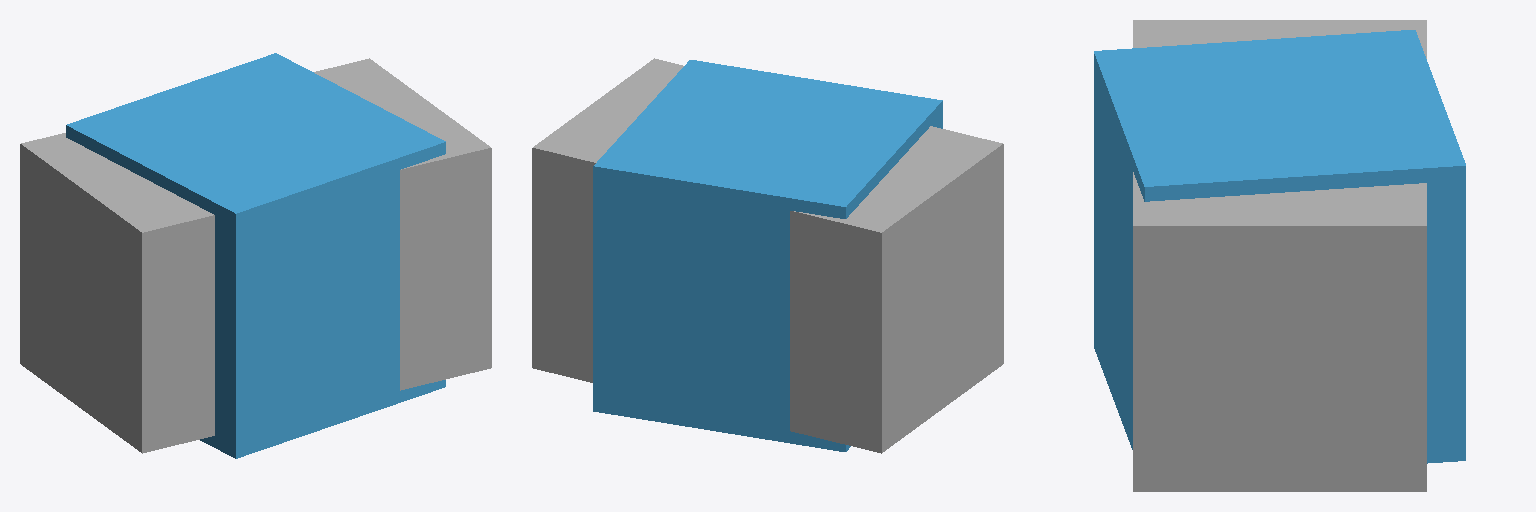
The robot description file, URDF, robot "andruinor2":
<?xml version="1.0"?>
<robot name="andruinor2">

  <link name="base_link">
    <visual>
      <geometry>
        <box size="0.1490 0.09 0.09"/>
      </geometry>
      <material name="silver">
        <color rgba="0.75 0.75 0.75 1"/>
      </material>
    </visual>
    <collision>
      <geometry>
        <box size="0.1490 0.09 0.09"/>
      </geometry>
    </collision>
   
  </link>

  

  <link name="hc_sr04_1_link">
    <visual>
      <geometry>
        <box size="0.1 0.1 0.1"/>
      </geometry>
      <material name="red"/>
    </visual>
    <collision>
      <geometry>
        <box size="0.1 0.1 0.1"/>
      </geometry>
    </collision>
  
  </link>

<joint name="hc_sr04_1_joint" type="fixed">
  <parent link="base_link"/>
  <child link="hc_sr04_1_link"/>
  <origin xyz="0 0 0" rpy="0 0 0.157" />
</joint>

<sensor  name="hc_sr04_1">
   <parent link="hc_sr04_1_link"/>
   <origin xyz="0.2 0.2 0.2" rpy="0 0 0"/>
   <ray>
     <horizontal samples="100" resolution="1" min_angle="-1.5708" max_angle="1.5708"/>
   </ray>
 </sensor>

</robot>

--- Facts derived from the render (not from the file) ---
3 views of the same robot in one strip: view 1: azimuth 30°, elevation 25°; view 2: azimuth 150°, elevation 25°; view 3: azimuth 270°, elevation 25° (orthographic).
Model andruinor2 with 2 links and 1 joints (1 fixed), rooted at base_link, posed every joint at zero.
Links seen in each view (by area): view 1: hc_sr04_1_link, base_link; view 2: hc_sr04_1_link, base_link; view 3: base_link, hc_sr04_1_link.
Boxes of the visible links, box(x1,y1,x2,y2) form: hc_sr04_1_link: box(66, 53, 445, 458); base_link: box(20, 58, 491, 453); hc_sr04_1_link: box(593, 60, 942, 451); base_link: box(532, 58, 1003, 453); base_link: box(1133, 20, 1426, 491); hc_sr04_1_link: box(1094, 30, 1465, 463).
Bounding box of the posed robot: 0.149 × 0.1144 × 0.1 m (x, y, z).
Geometry: primitives only (box / cylinder / sphere), no mesh files.
